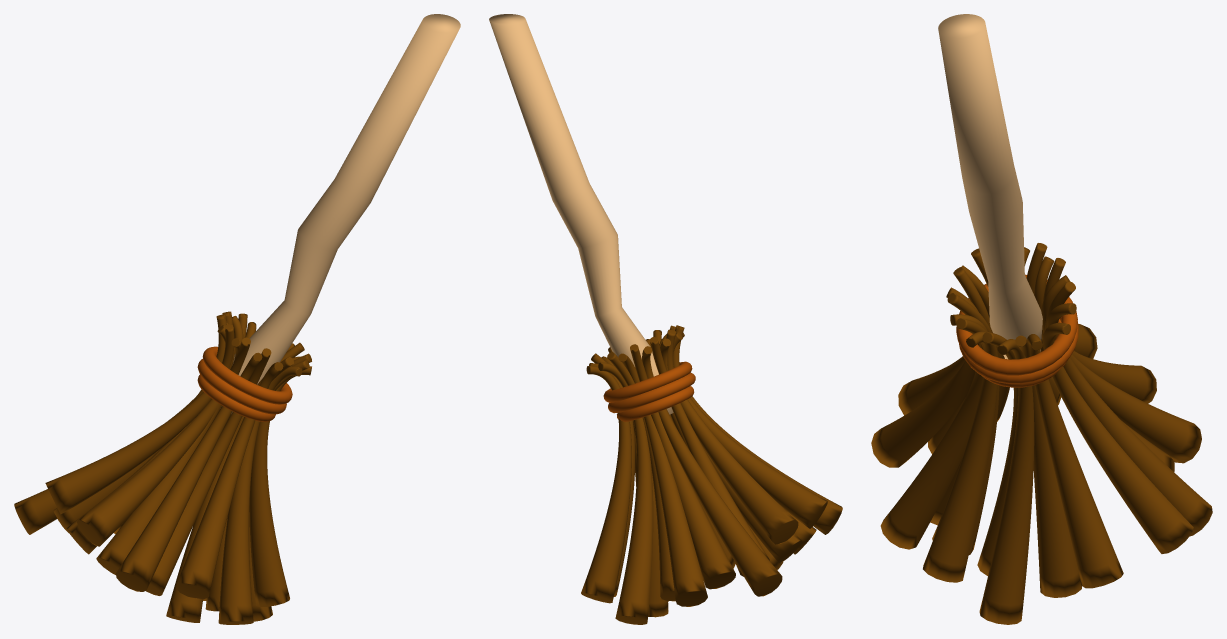
Rendered from abandonment.glb.
3 views of the same model, side by side, from view 1: azimuth 30°, elevation 25°; view 2: azimuth 150°, elevation 25°; view 3: azimuth 270°, elevation 25° (orthographic). The views are drawn at different scales.
Visible parts, largest first — view 1: Cylinder.007; view 2: Cylinder.007; view 3: Cylinder.007.
Part boxes in pixels (box(x1,y1,x2,y2)): Cylinder.007: box(14, 14, 460, 624); Cylinder.007: box(489, 14, 842, 624); Cylinder.007: box(871, 14, 1212, 624).
Size of the model in its own units: 1.4 by 2.03 by 0.8973.
